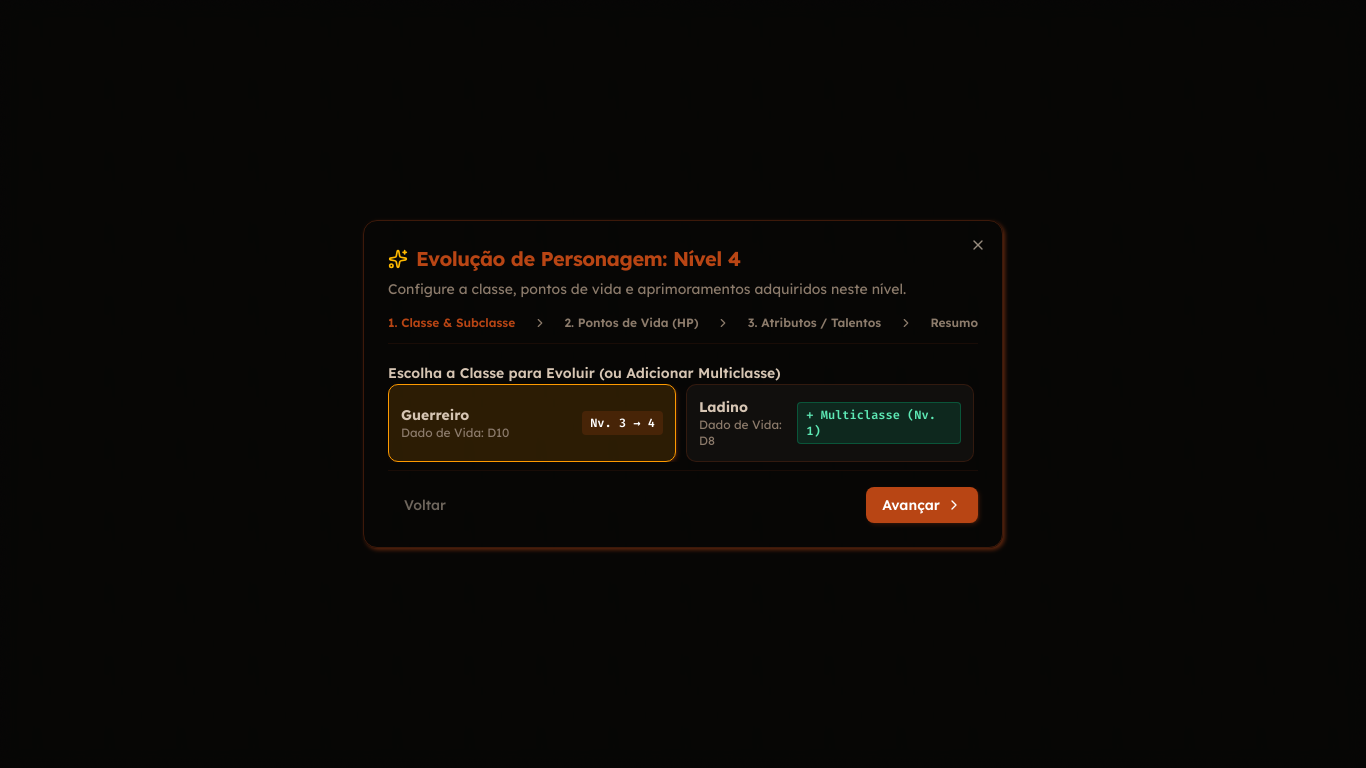
Test: XP Progress Bar & Level Up Wizard Modal logic › renders half-feat ability score selector, enforces selection before advancing, and submits chosen ability increase in mutation payload
Later steps or results of the test are not shown.
Note: Advance class choice
Click the button "Avançar": (922, 505) [866, 487, 978, 523]
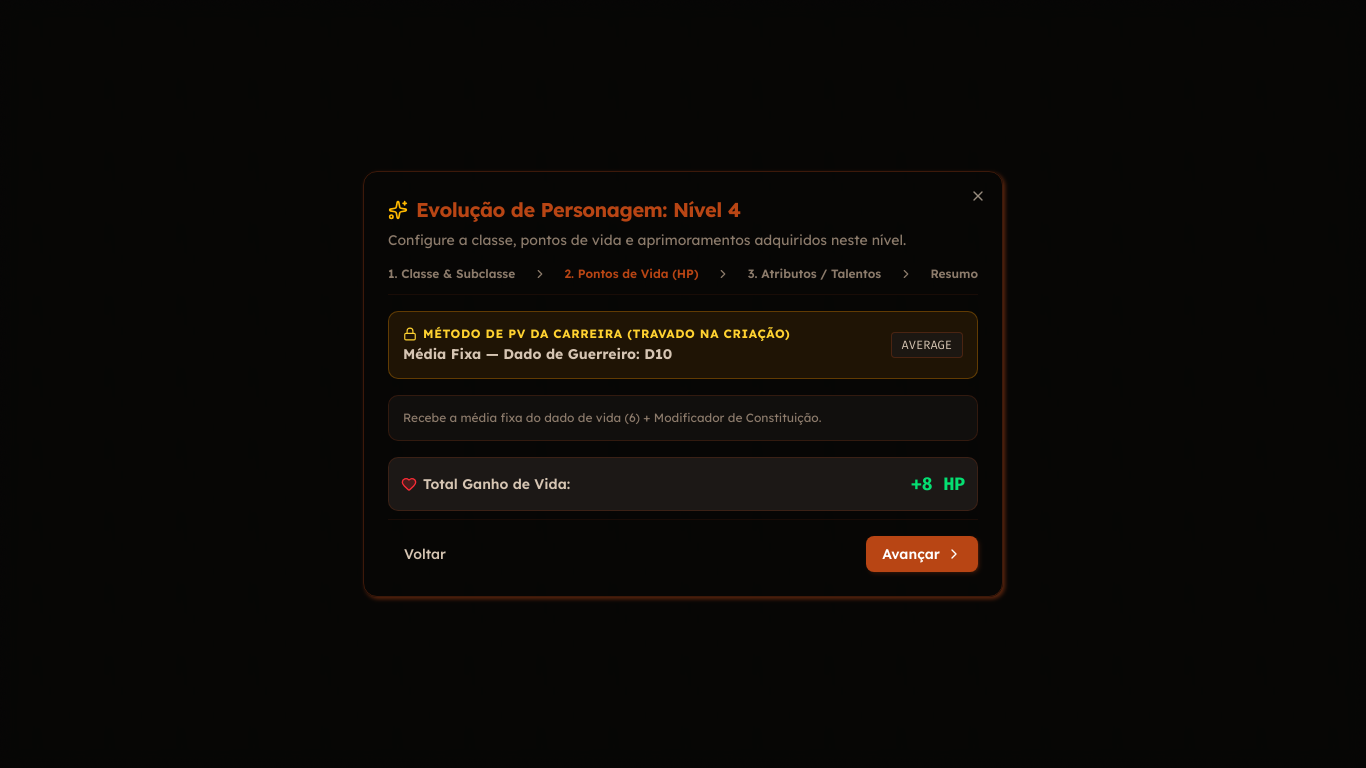
Note: Advance HP step
Click the button "Avançar": (922, 554) [866, 536, 978, 572]
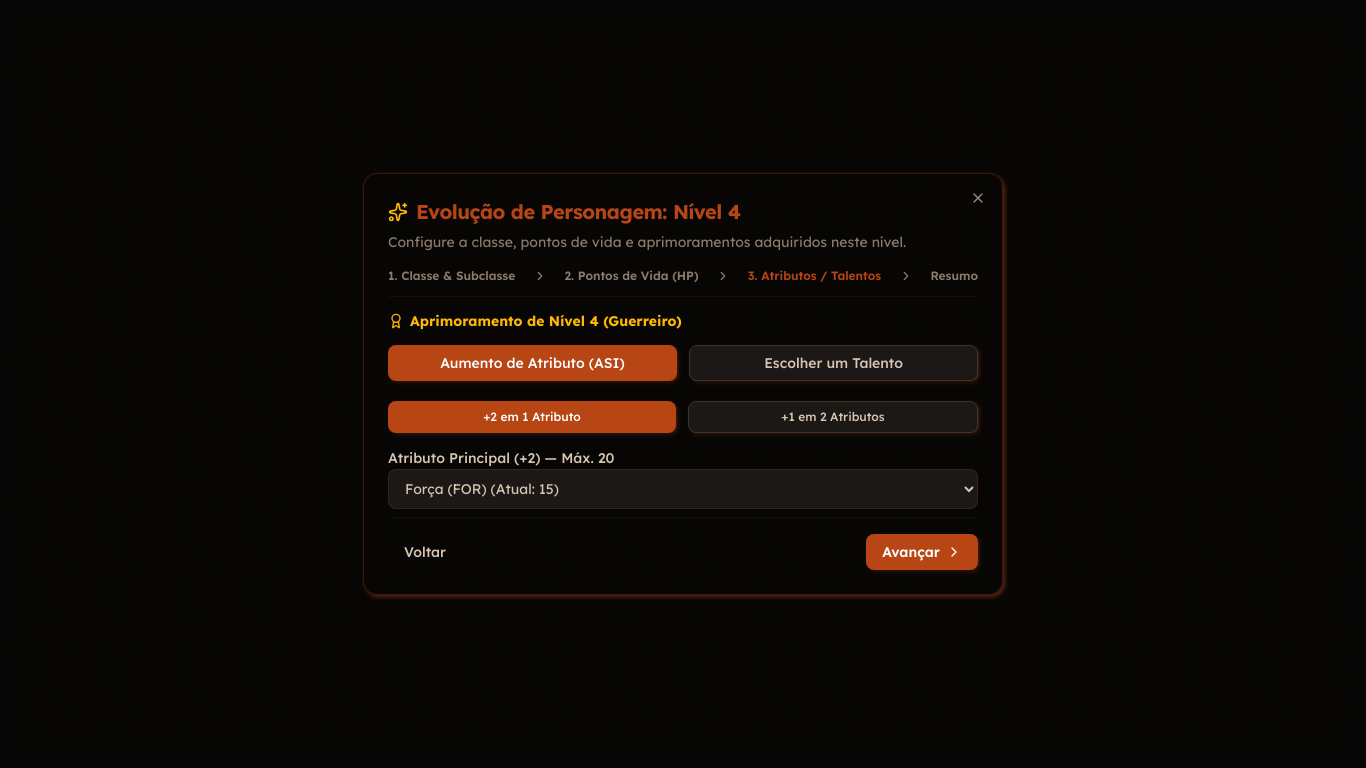
Note: Choose Feat
Click the button with test id "choice-feat-button": (834, 363) [689, 345, 978, 381]
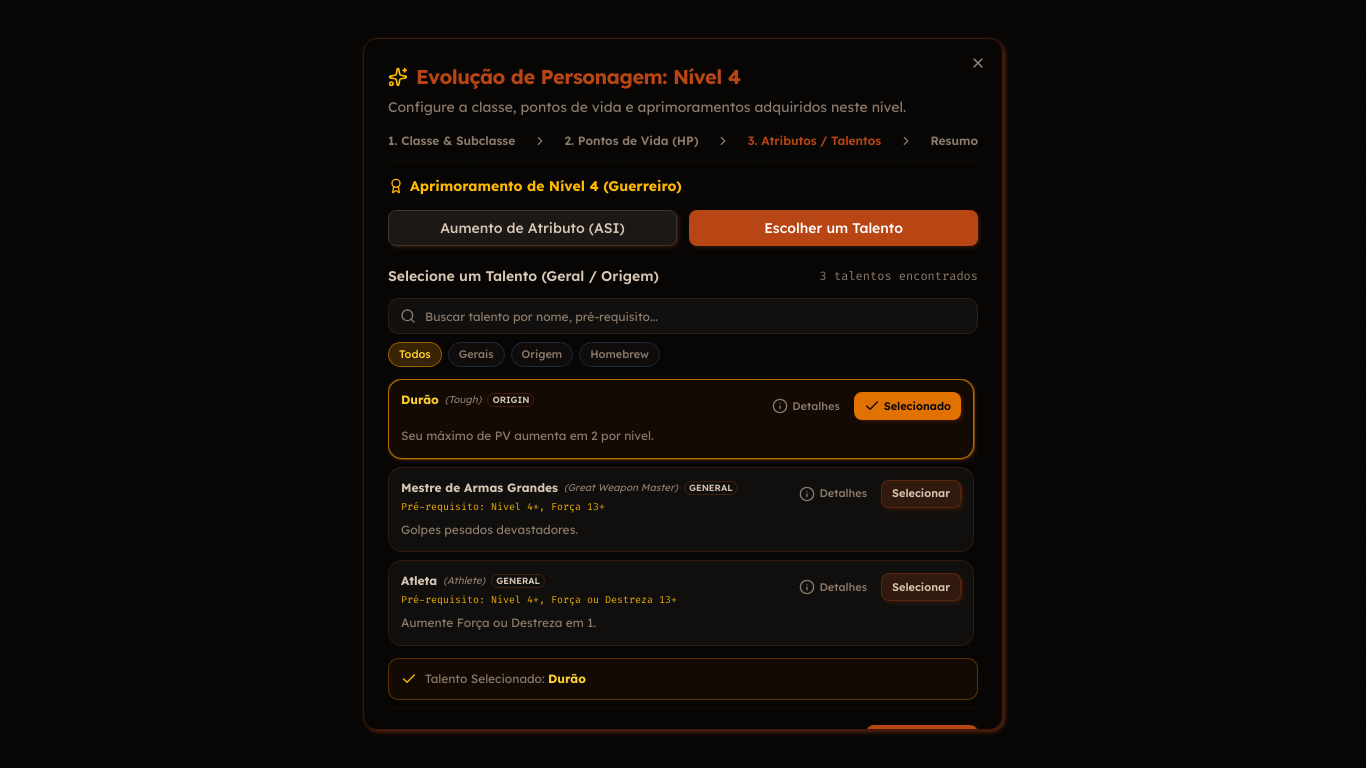
Check: the element with test id "feat-card-feat-athlete" is shown
Click the element with test id "feat-card-feat-athlete": (681, 603) [388, 560, 974, 646]
(page scrolled)
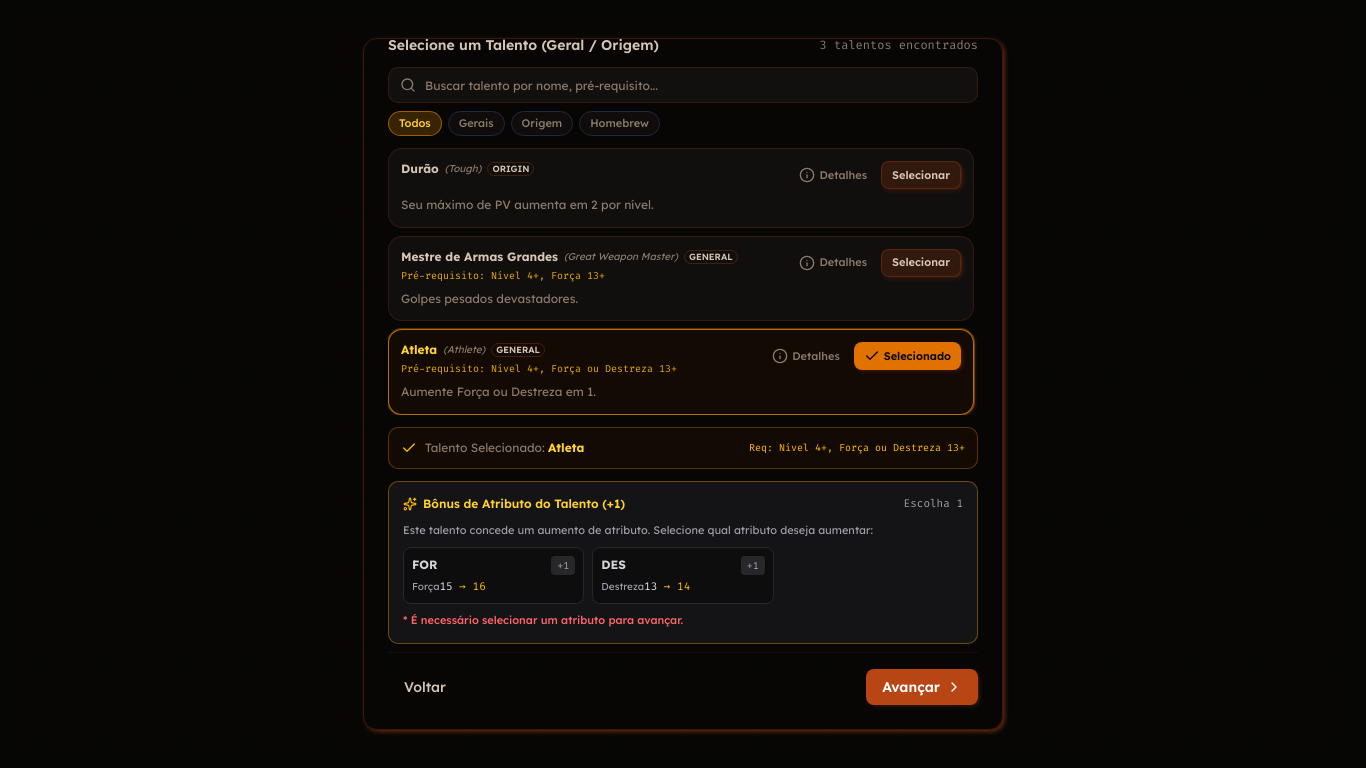
Check: the text "Bônus de Atributo do Talento (+1)" is shown, box [423, 496, 625, 512]
Check: the text "Escolha 1" is shown, box [904, 496, 963, 512]
Check: the button "FOR +1 Força 15 → 16" is shown, box [403, 547, 584, 604]
Click the button "Avançar": (922, 687) [866, 669, 978, 705]
Check: the text "Novo Nível Total:" is not shown
Click the button "FOR +1 Força 15 → 16": (494, 575) [403, 547, 584, 604]
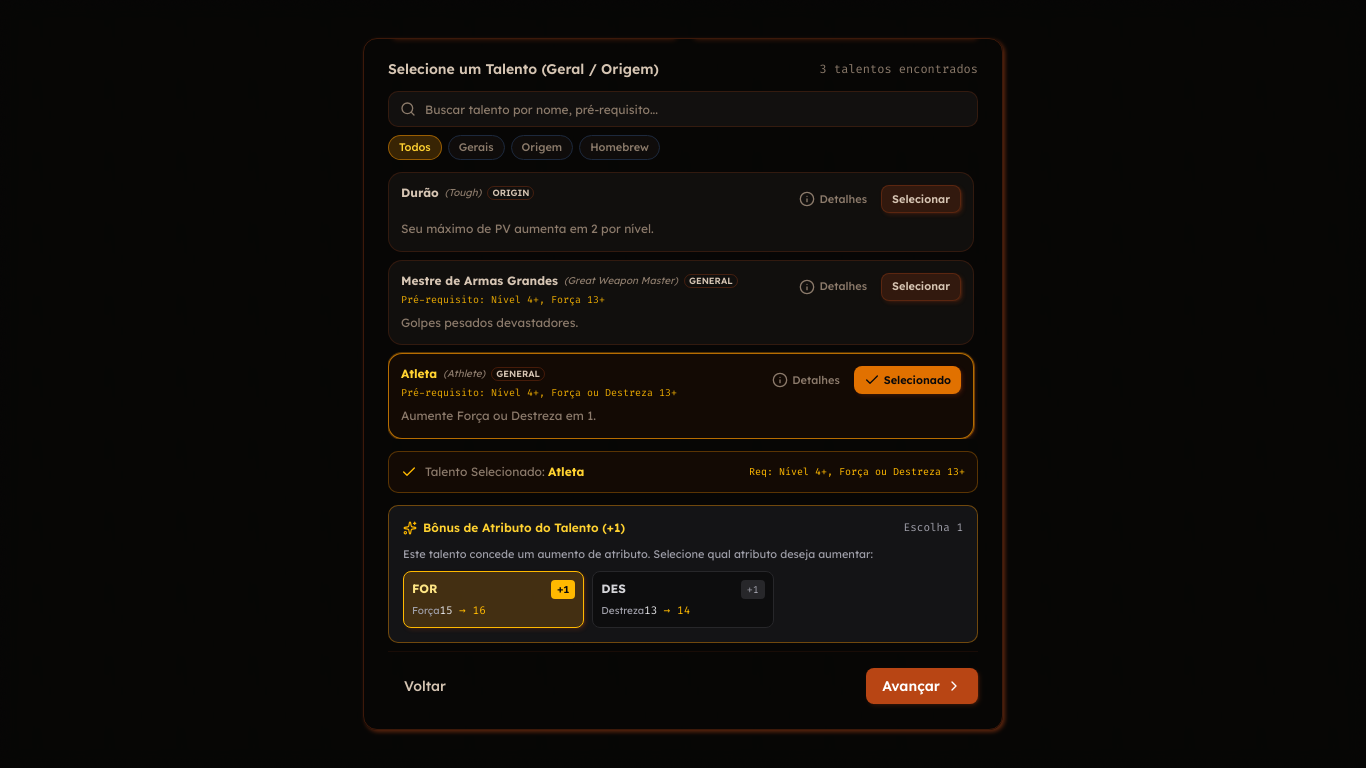
Note: Advance to Step 4 (Summary)
Click the button "Avançar": (922, 686) [866, 668, 978, 704]
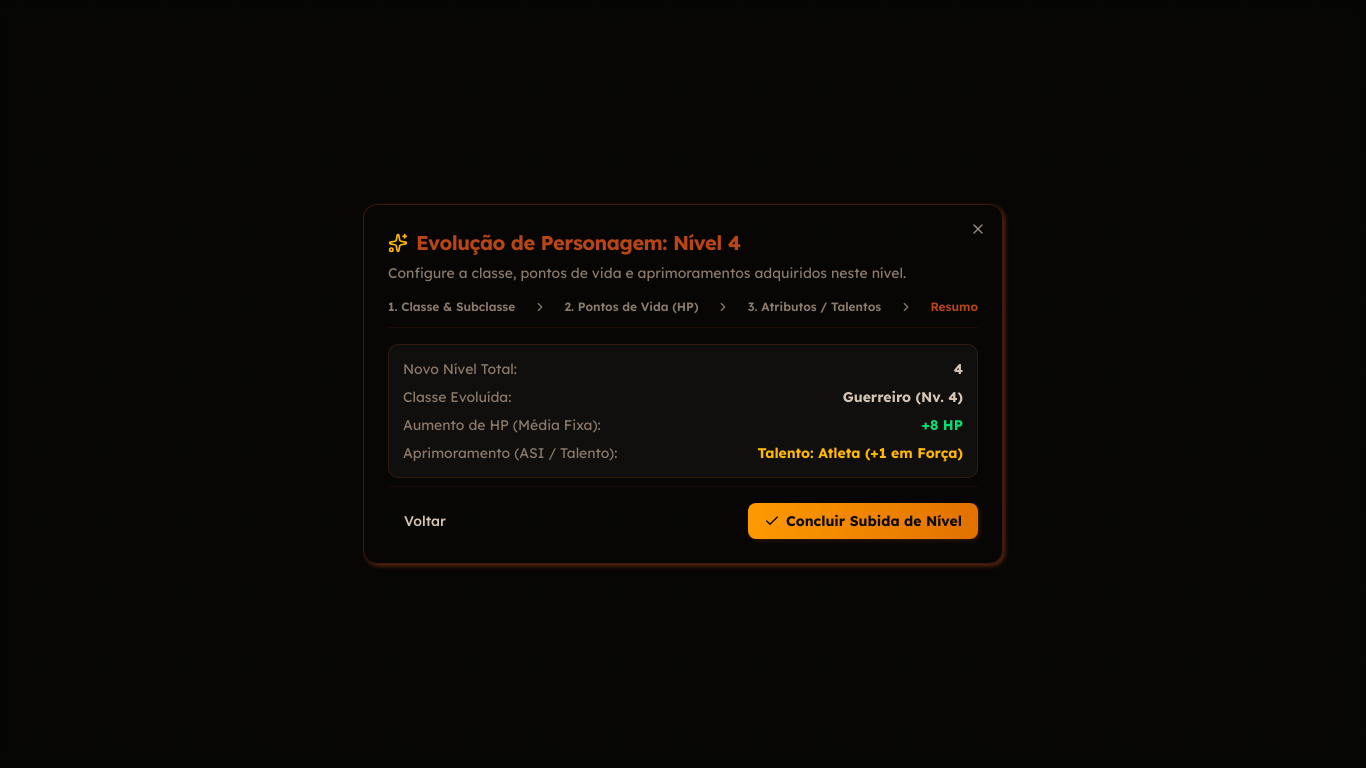
Check: the text "Novo Nível Total:" is shown, box [403, 359, 517, 379]
Check: the text "Talento: Atleta (+1 em Força)" is shown, box [757, 443, 963, 463]
